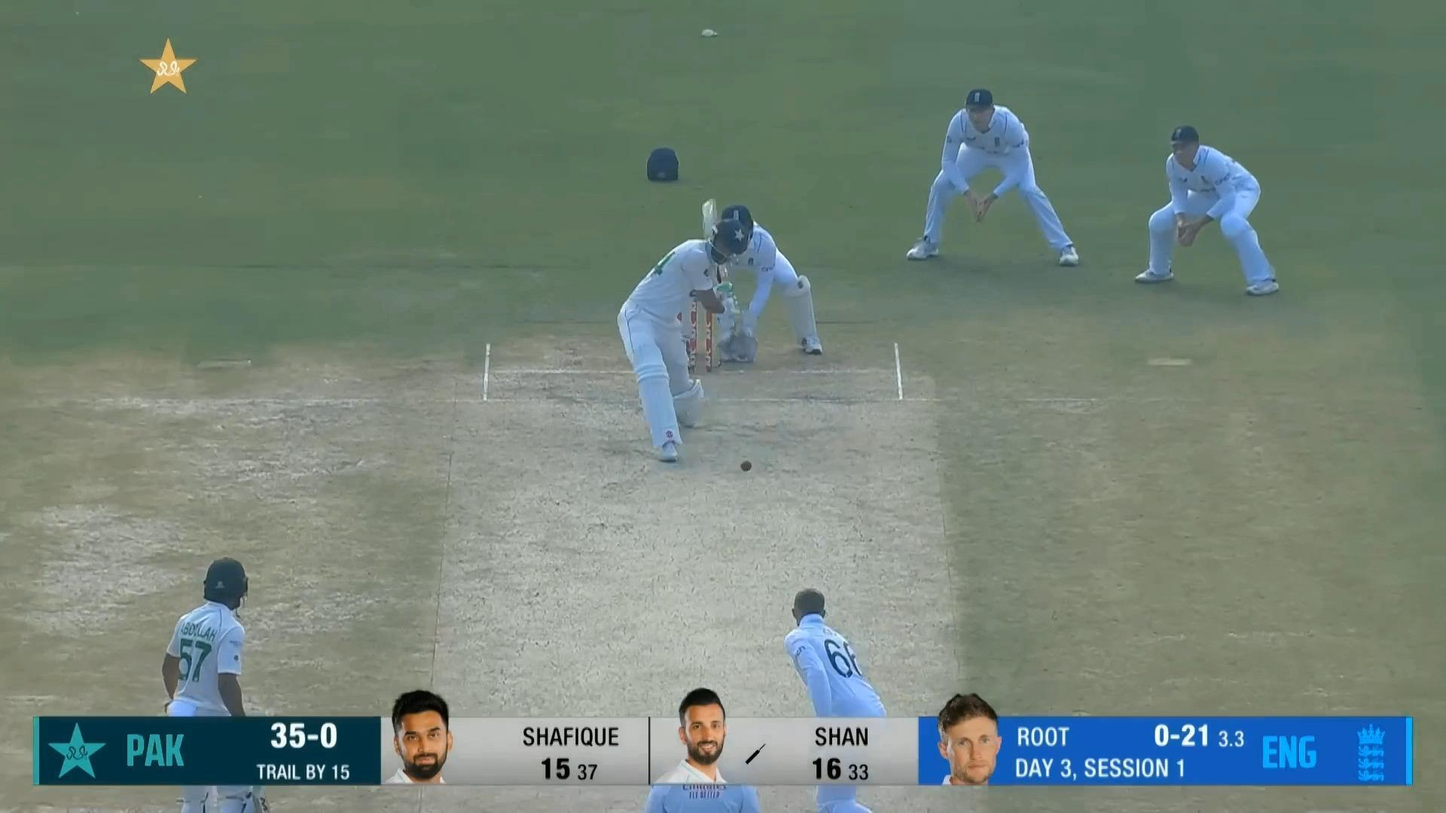BM 1: (616, 198, 749, 462)
BO: (784, 586, 887, 813)
